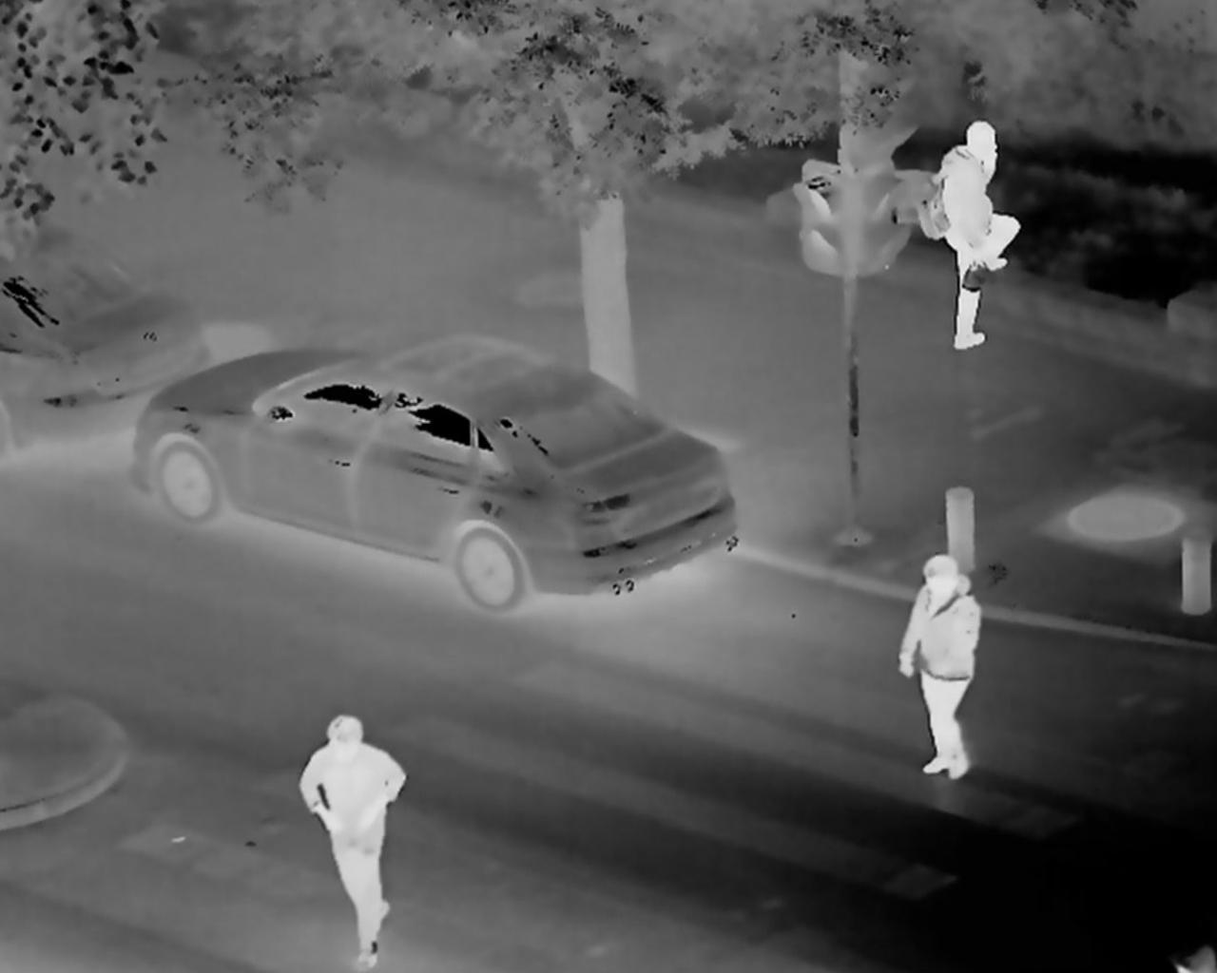person: (299, 715, 413, 973), (918, 117, 1025, 355), (898, 550, 993, 779)
